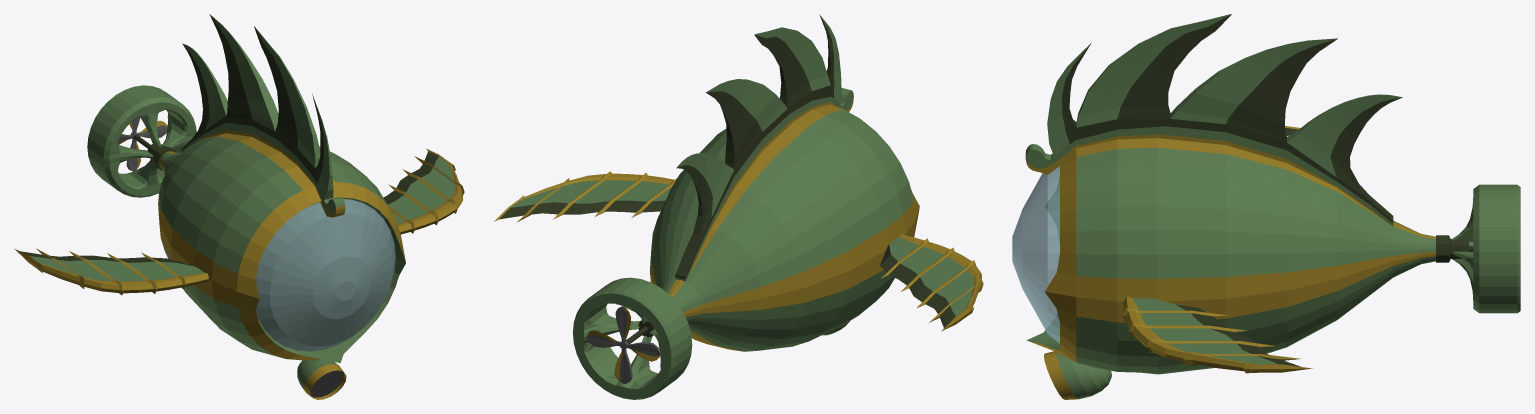
Rendered from Submarine.fbx.
The picture shows the model from 3 angles, left to right: view 1: azimuth 30°, elevation 25°; view 2: azimuth 150°, elevation 25°; view 3: azimuth 270°, elevation 25°; orthographic projection. The views are drawn at different scales.
Visible parts, largest first — view 1: SubBody, Crest, PropellerCowling, RightWing, LeftWing, FrontLight, PropellerMast; view 2: SubBody, Crest, PropellerCowling, RightWing, LeftWing, Propeller2, Propeller3; view 3: SubBody, Crest, LeftWing, PropellerCowling, FrontLight, PropellerMast.
Part boxes in pixels (x1=…): SubBody: x1=158, y1=133, x2=405, y2=363; Crest: x1=181, y1=14, x2=345, y2=217; PropellerCowling: x1=87, y1=85, x2=196, y2=197; RightWing: x1=15, y1=248, x2=208, y2=295; LeftWing: x1=383, y1=148, x2=464, y2=234; FrontLight: x1=297, y1=359, x2=346, y2=399; PropellerMast: x1=131, y1=133, x2=176, y2=170; SubBody: x1=650, y1=104, x2=919, y2=351; Crest: x1=675, y1=14, x2=853, y2=281; PropellerCowling: x1=572, y1=277, x2=692, y2=399; RightWing: x1=880, y1=234, x2=983, y2=331; LeftWing: x1=494, y1=171, x2=676, y2=222; Propeller2: x1=626, y1=342, x2=660, y2=361; Propeller3: x1=614, y1=349, x2=632, y2=383; SubBody: x1=1012, y1=138, x2=1435, y2=374; Crest: x1=1025, y1=14, x2=1402, y2=226; LeftWing: x1=1122, y1=296, x2=1312, y2=373; PropellerCowling: x1=1451, y1=184, x2=1520, y2=313; FrontLight: x1=1044, y1=351, x2=1111, y2=399; PropellerMast: x1=1436, y1=235, x2=1473, y2=262.
Bounding box in the file's own units: 22.66 × 16.85 × 20.23.
